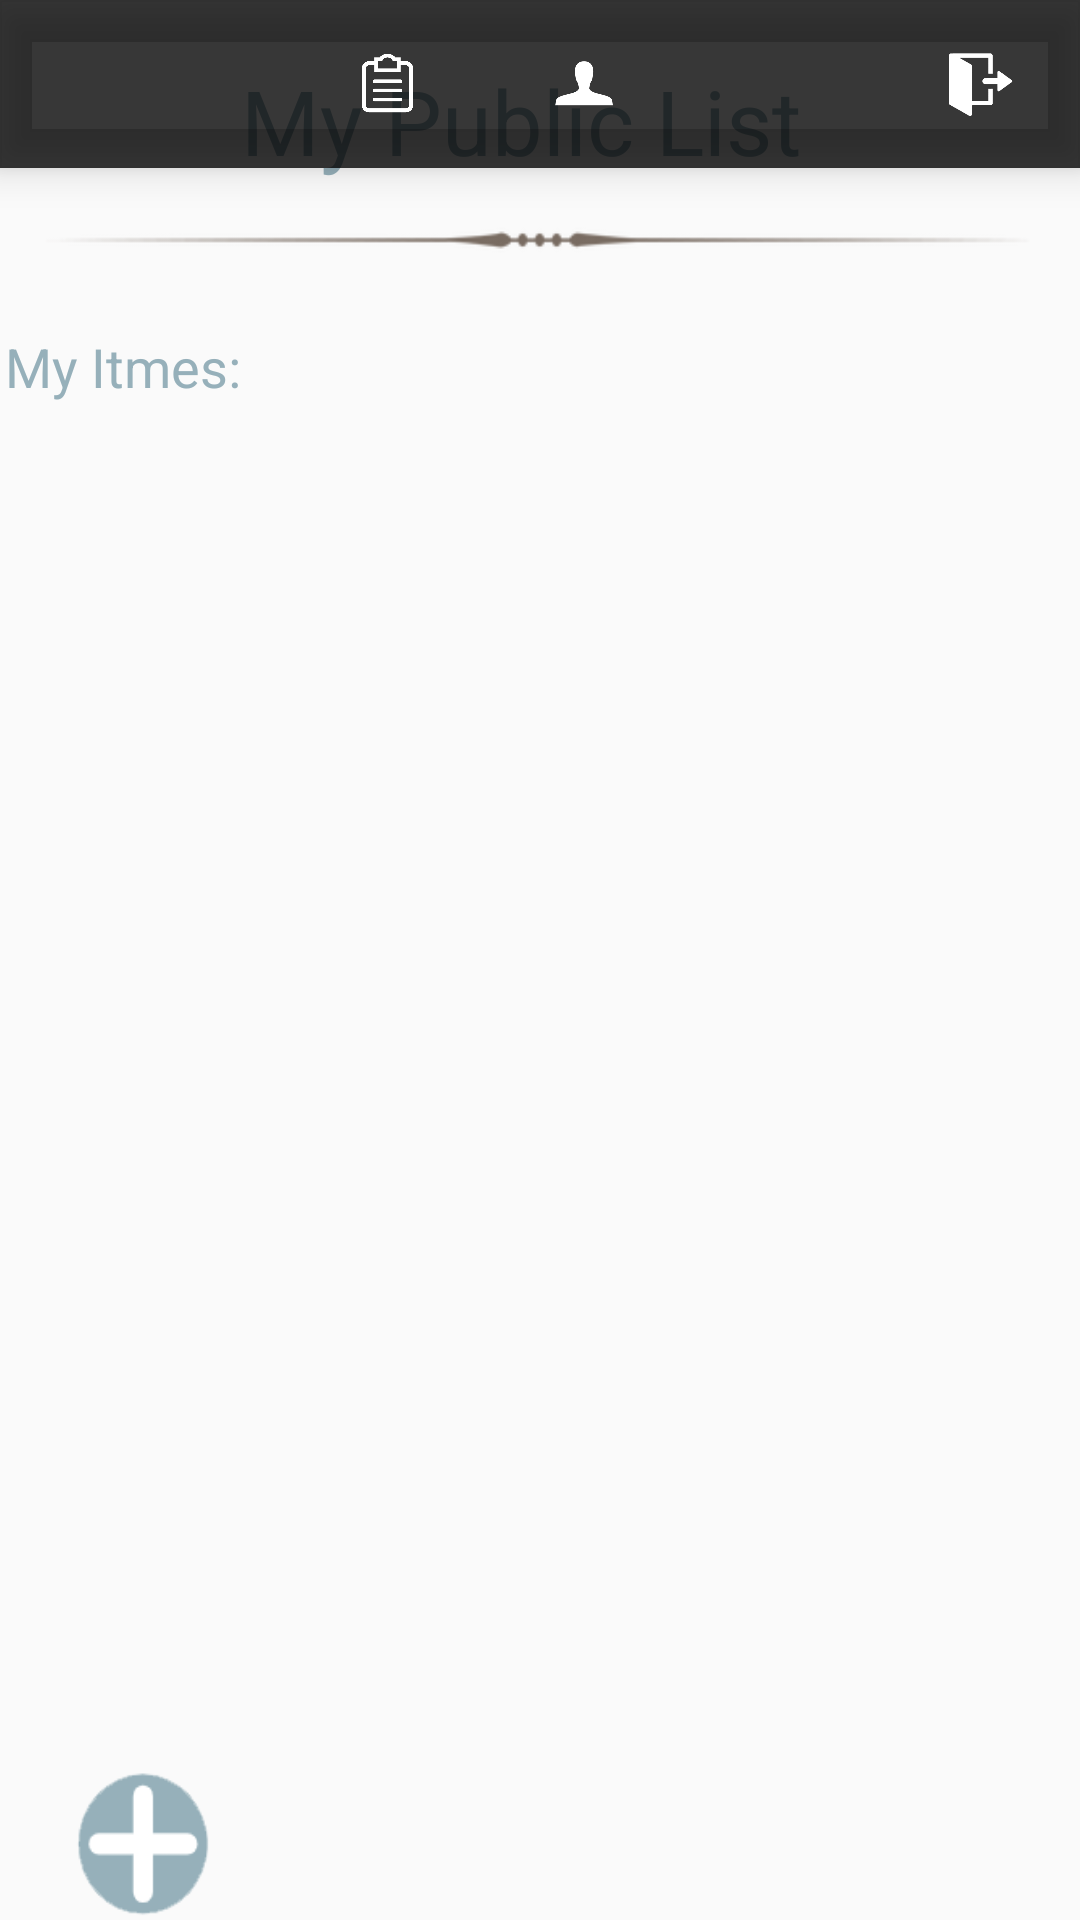

Screen size 1080 x 1920. Icon name, then its box in pixels as (x1, y1, x2, y2):
add: (78, 1773, 208, 1914)
